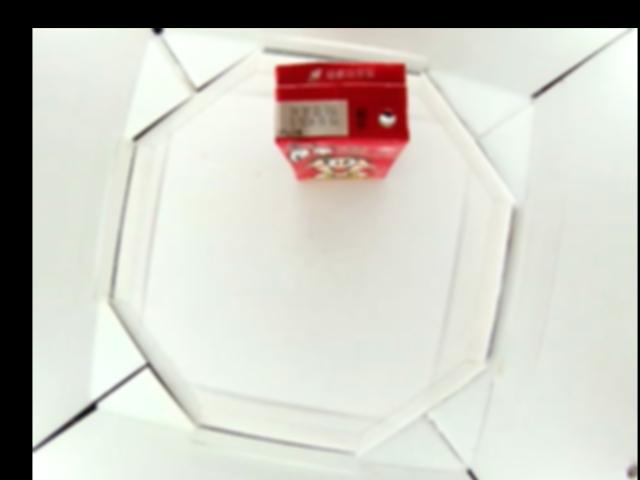Bottle: (272, 60, 406, 181)
